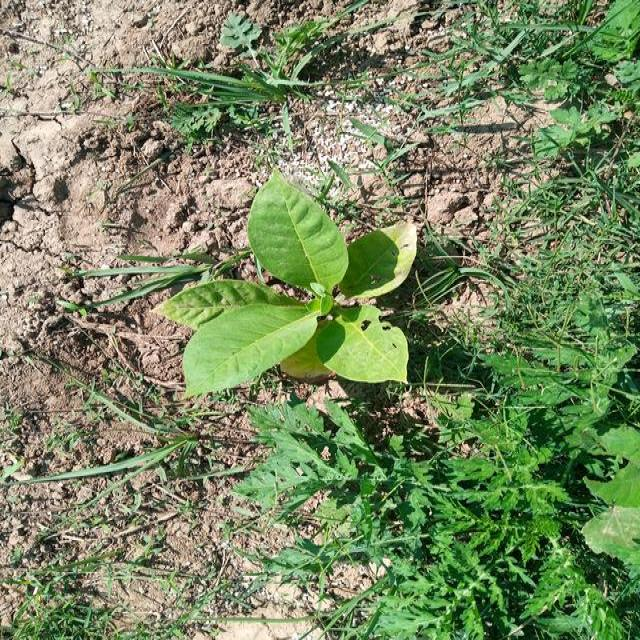crop: (150, 165, 426, 400)
